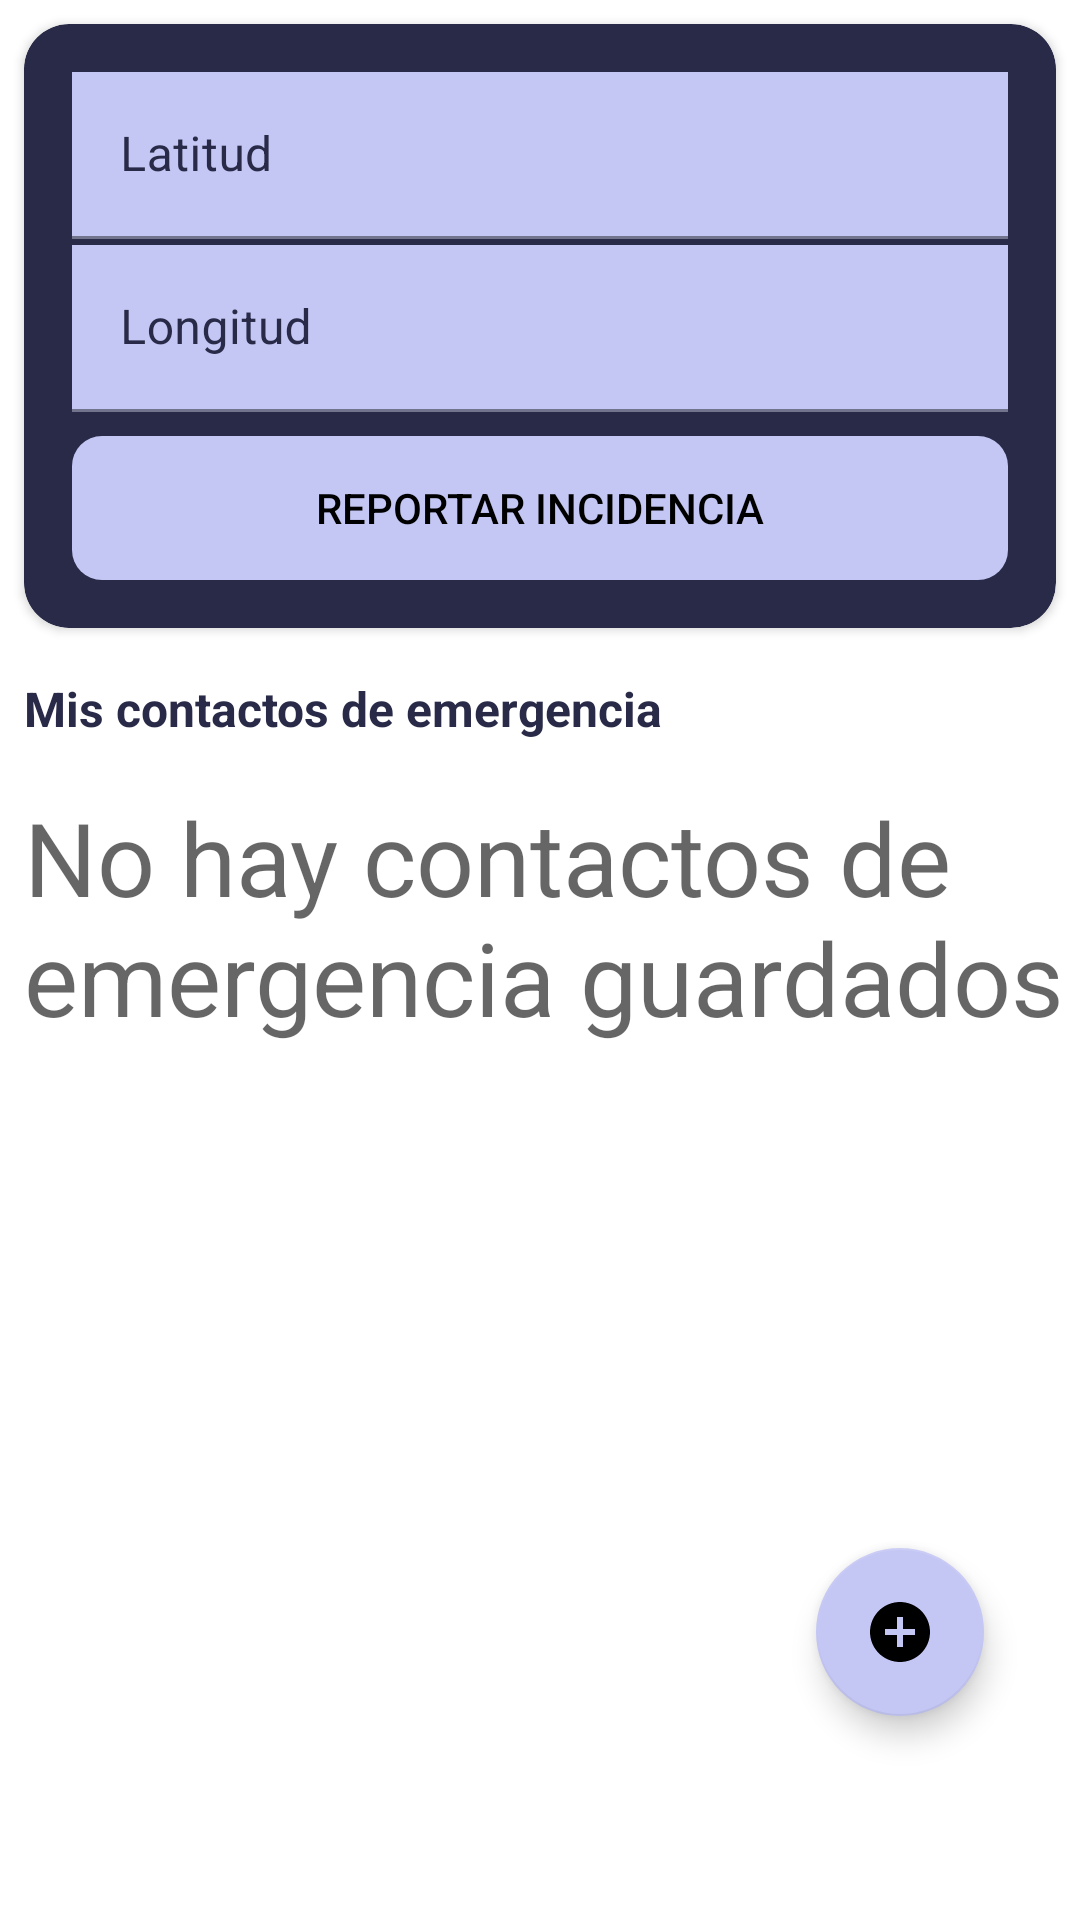

Locate icon controls on the screen. Image size 1080*1920, boxes as (x1, y1, x2, y2).
Nuevo contacto de emergencia: (816, 1548, 984, 1716)
